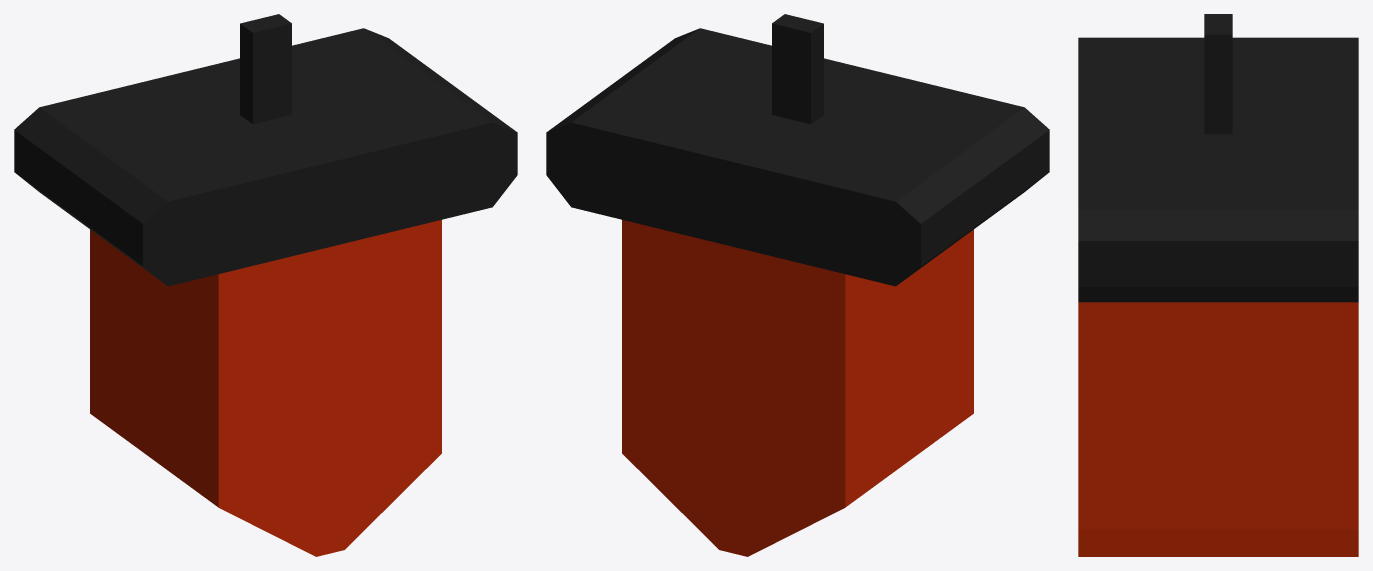
The model's file is acorn_engine.obj.
3 views of the same model, side by side, from view 1: azimuth 30°, elevation 25°; view 2: azimuth 150°, elevation 25°; view 3: azimuth 270°, elevation 25° (orthographic). The views are drawn at different scales.
Visible parts, largest first — view 1: Cube; view 2: Cube; view 3: Cube.
Part boxes in pixels (<box>): Cube: <box>14,14,517,556</box>; Cube: <box>546,14,1049,556</box>; Cube: <box>1078,14,1358,556</box>.
Bounding box in the file's own units: 3.36 × 4.13 × 2.
